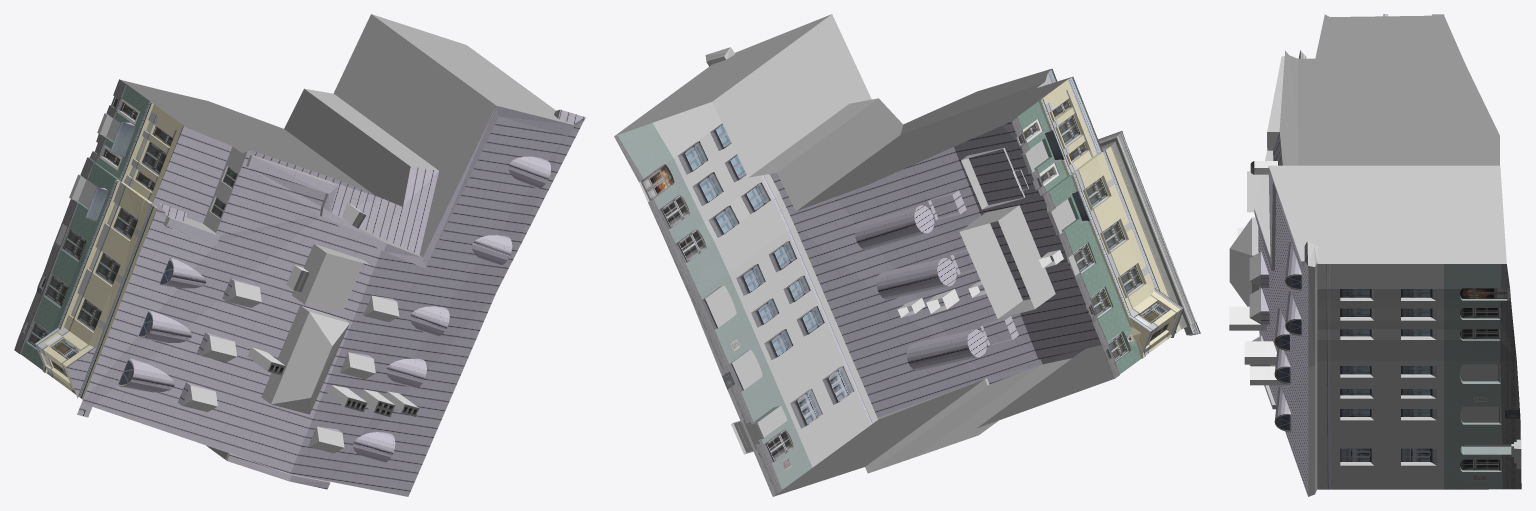
Rendered from Pikk_42.obj.
The picture shows the model from 3 angles, left to right: view 1: azimuth 30°, elevation 25°; view 2: azimuth 150°, elevation 25°; view 3: azimuth 270°, elevation 25°; orthographic projection. The views are drawn at different scales.
Visible parts, largest first — view 1: Pikk_42; view 2: Pikk_42; view 3: Pikk_42.
Part boxes in pixels (bbox=[...]): Pikk_42: bbox=[14, 14, 585, 496]; Pikk_42: bbox=[614, 14, 1200, 496]; Pikk_42: bbox=[1229, 14, 1521, 496].
Bounding box in the file's own units: 40.06 × 31.08 × 21.36.
